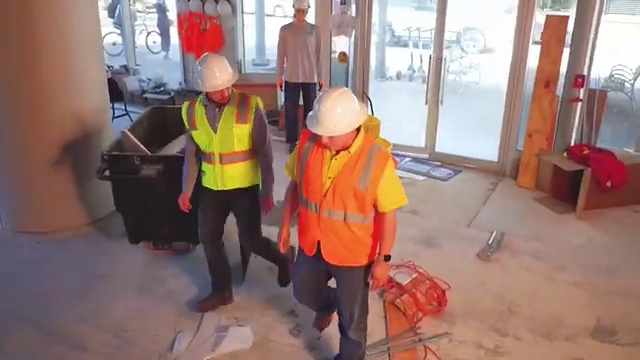helmet: (297, 75, 391, 140), (189, 37, 245, 91)
jacket: (283, 143, 392, 272), (177, 96, 268, 183)
